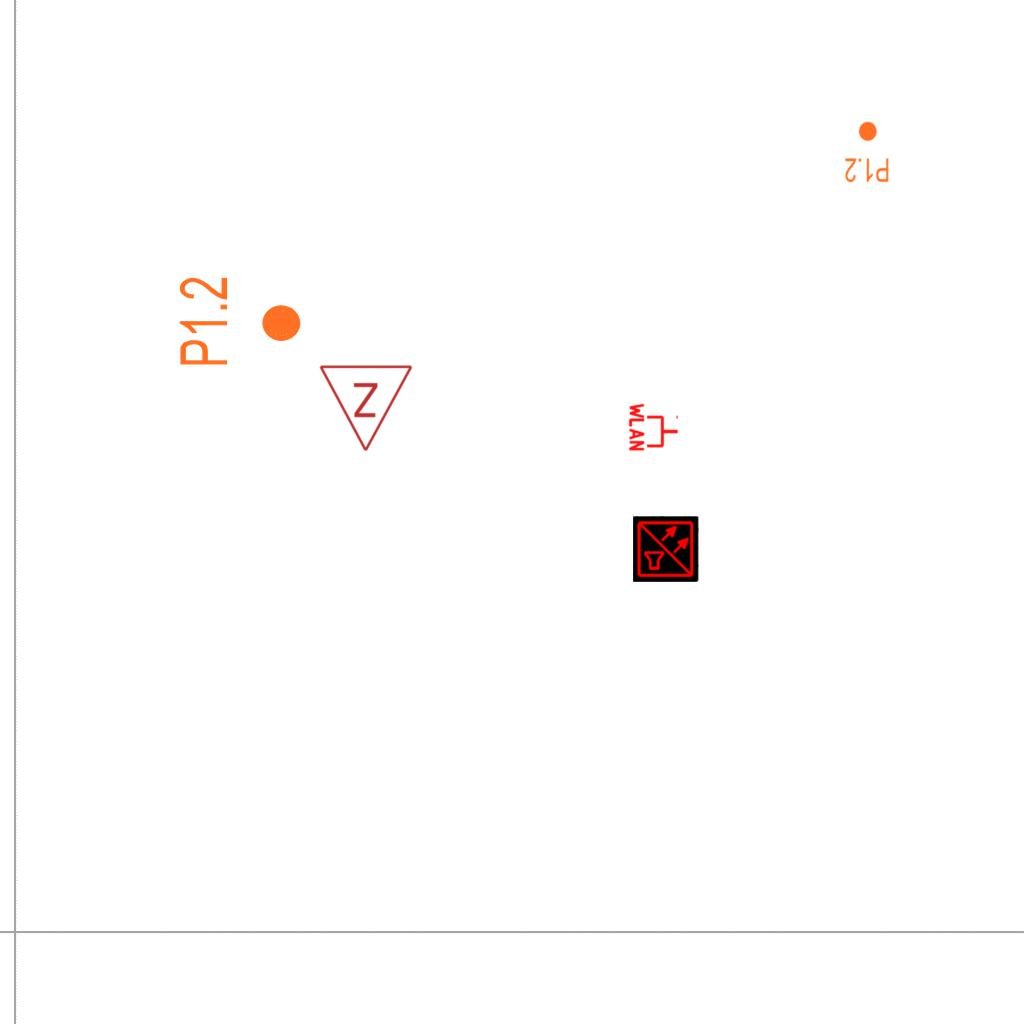Downlight_LED_Einbauleuchten_Flur: (176, 275, 304, 368), (844, 120, 890, 184)
OKW_Multisensormelder_(Kombination_optischer_Rauch-Kahlenmonoxid_Waerme-Melder): (633, 516, 699, 582)
WLAN: (628, 401, 680, 453)
Zimmersignalleuchte: (318, 358, 416, 458)
